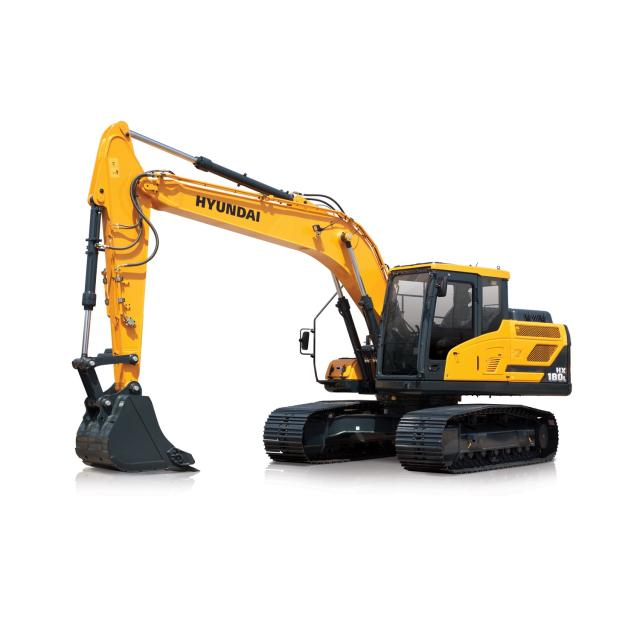excavator: (47, 101, 593, 510)
